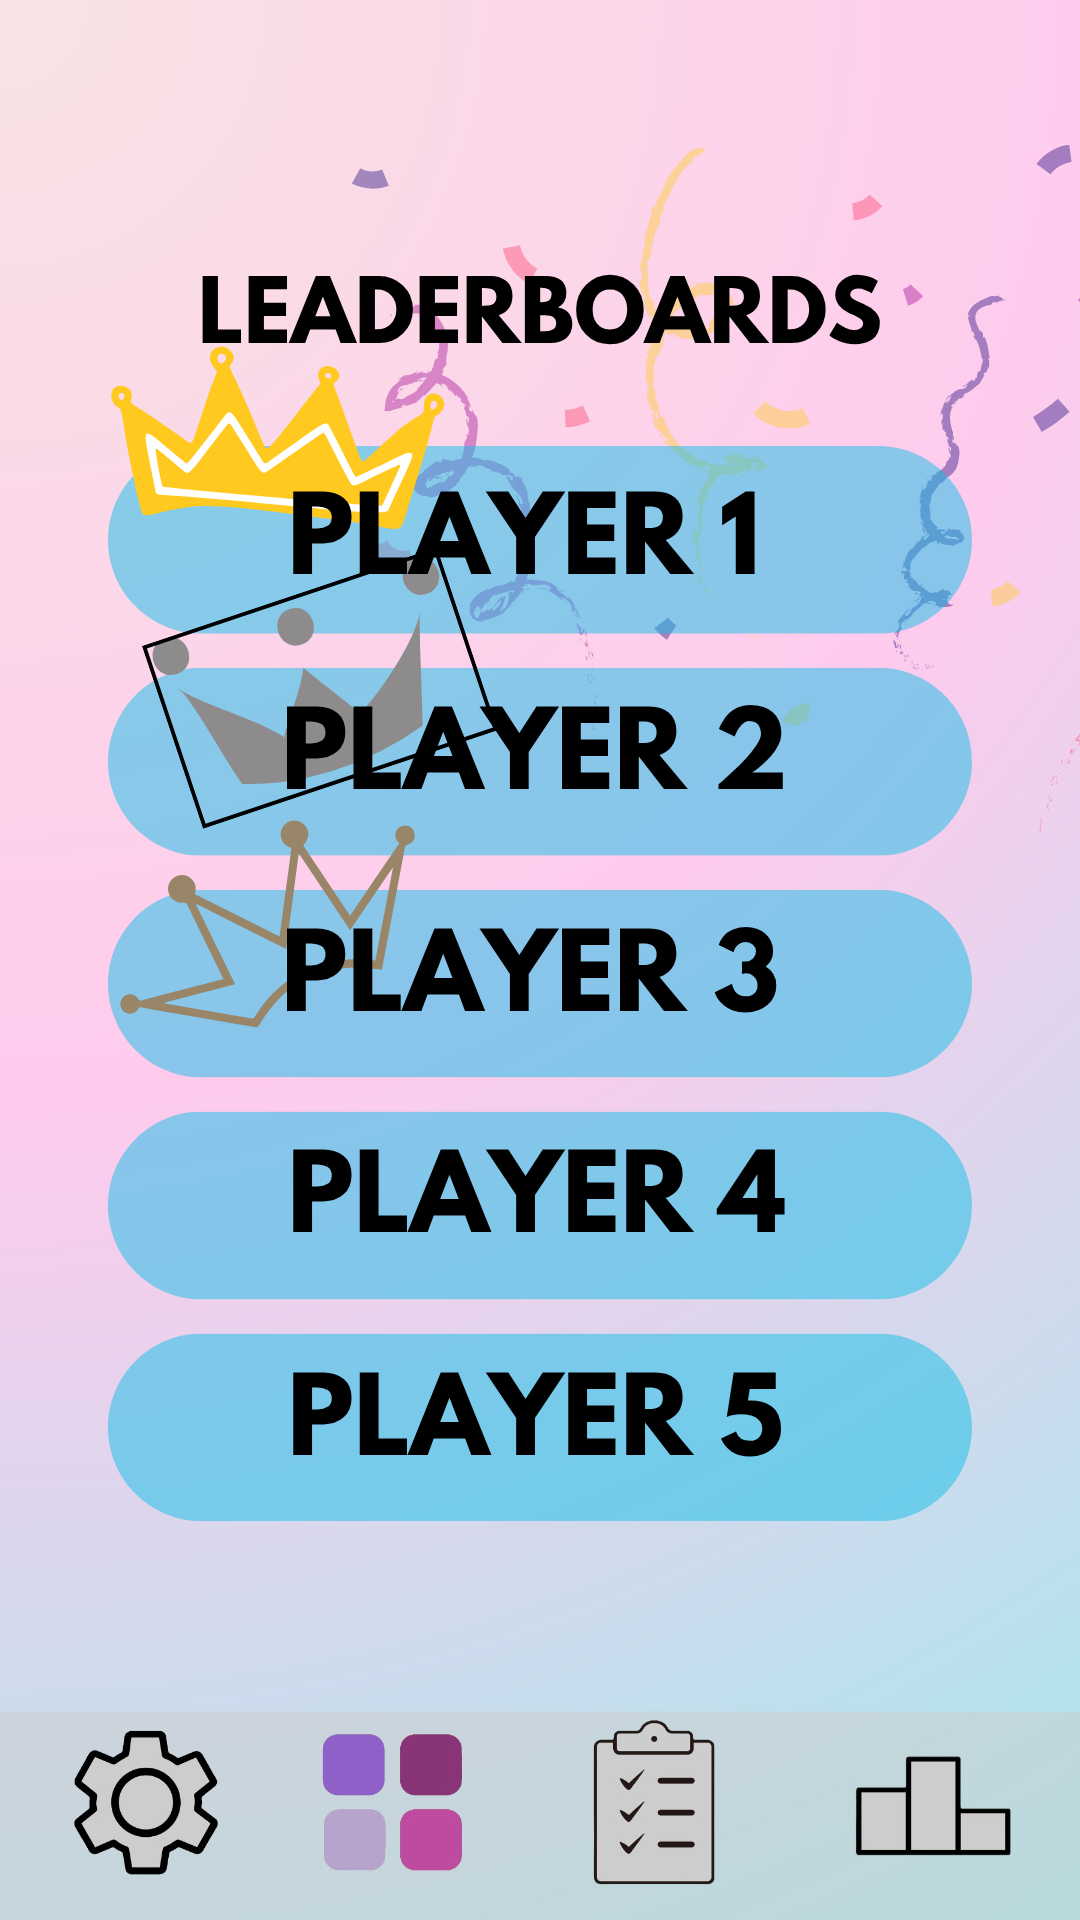

Named icons in this screenshot (1080×1920) and their centers, point (x, y):
apps: point (392, 1802)
leaderboards: point (933, 1806)
settings: point (146, 1802)
tasks: point (654, 1802)
